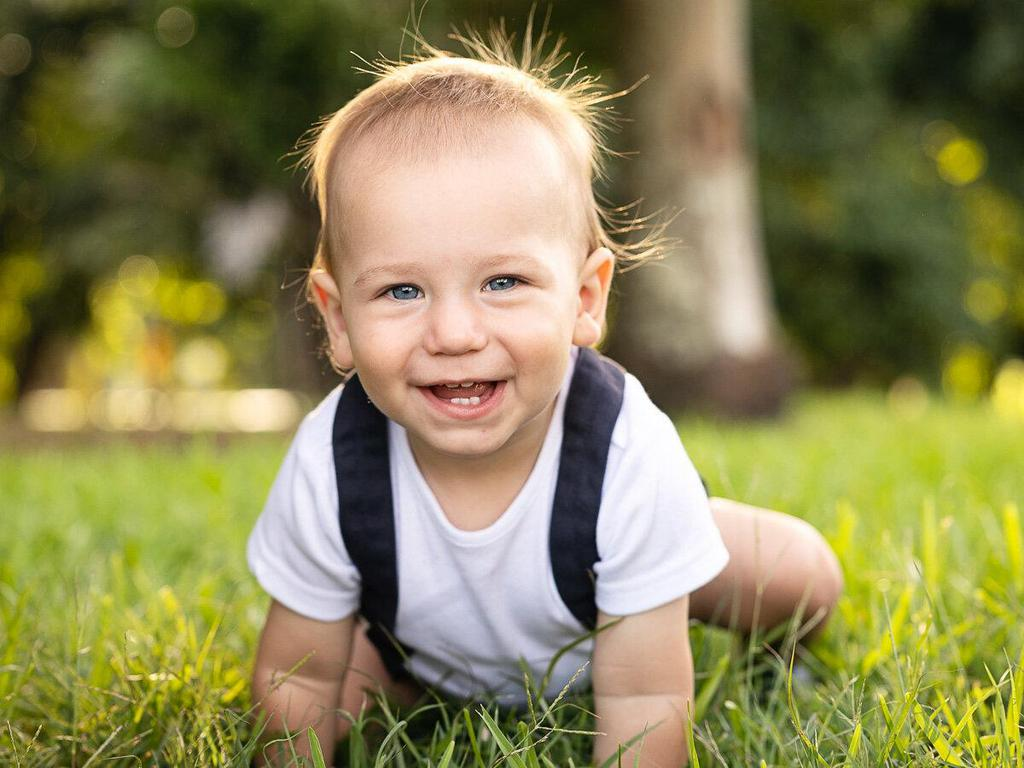child: (161, 23, 856, 768)
